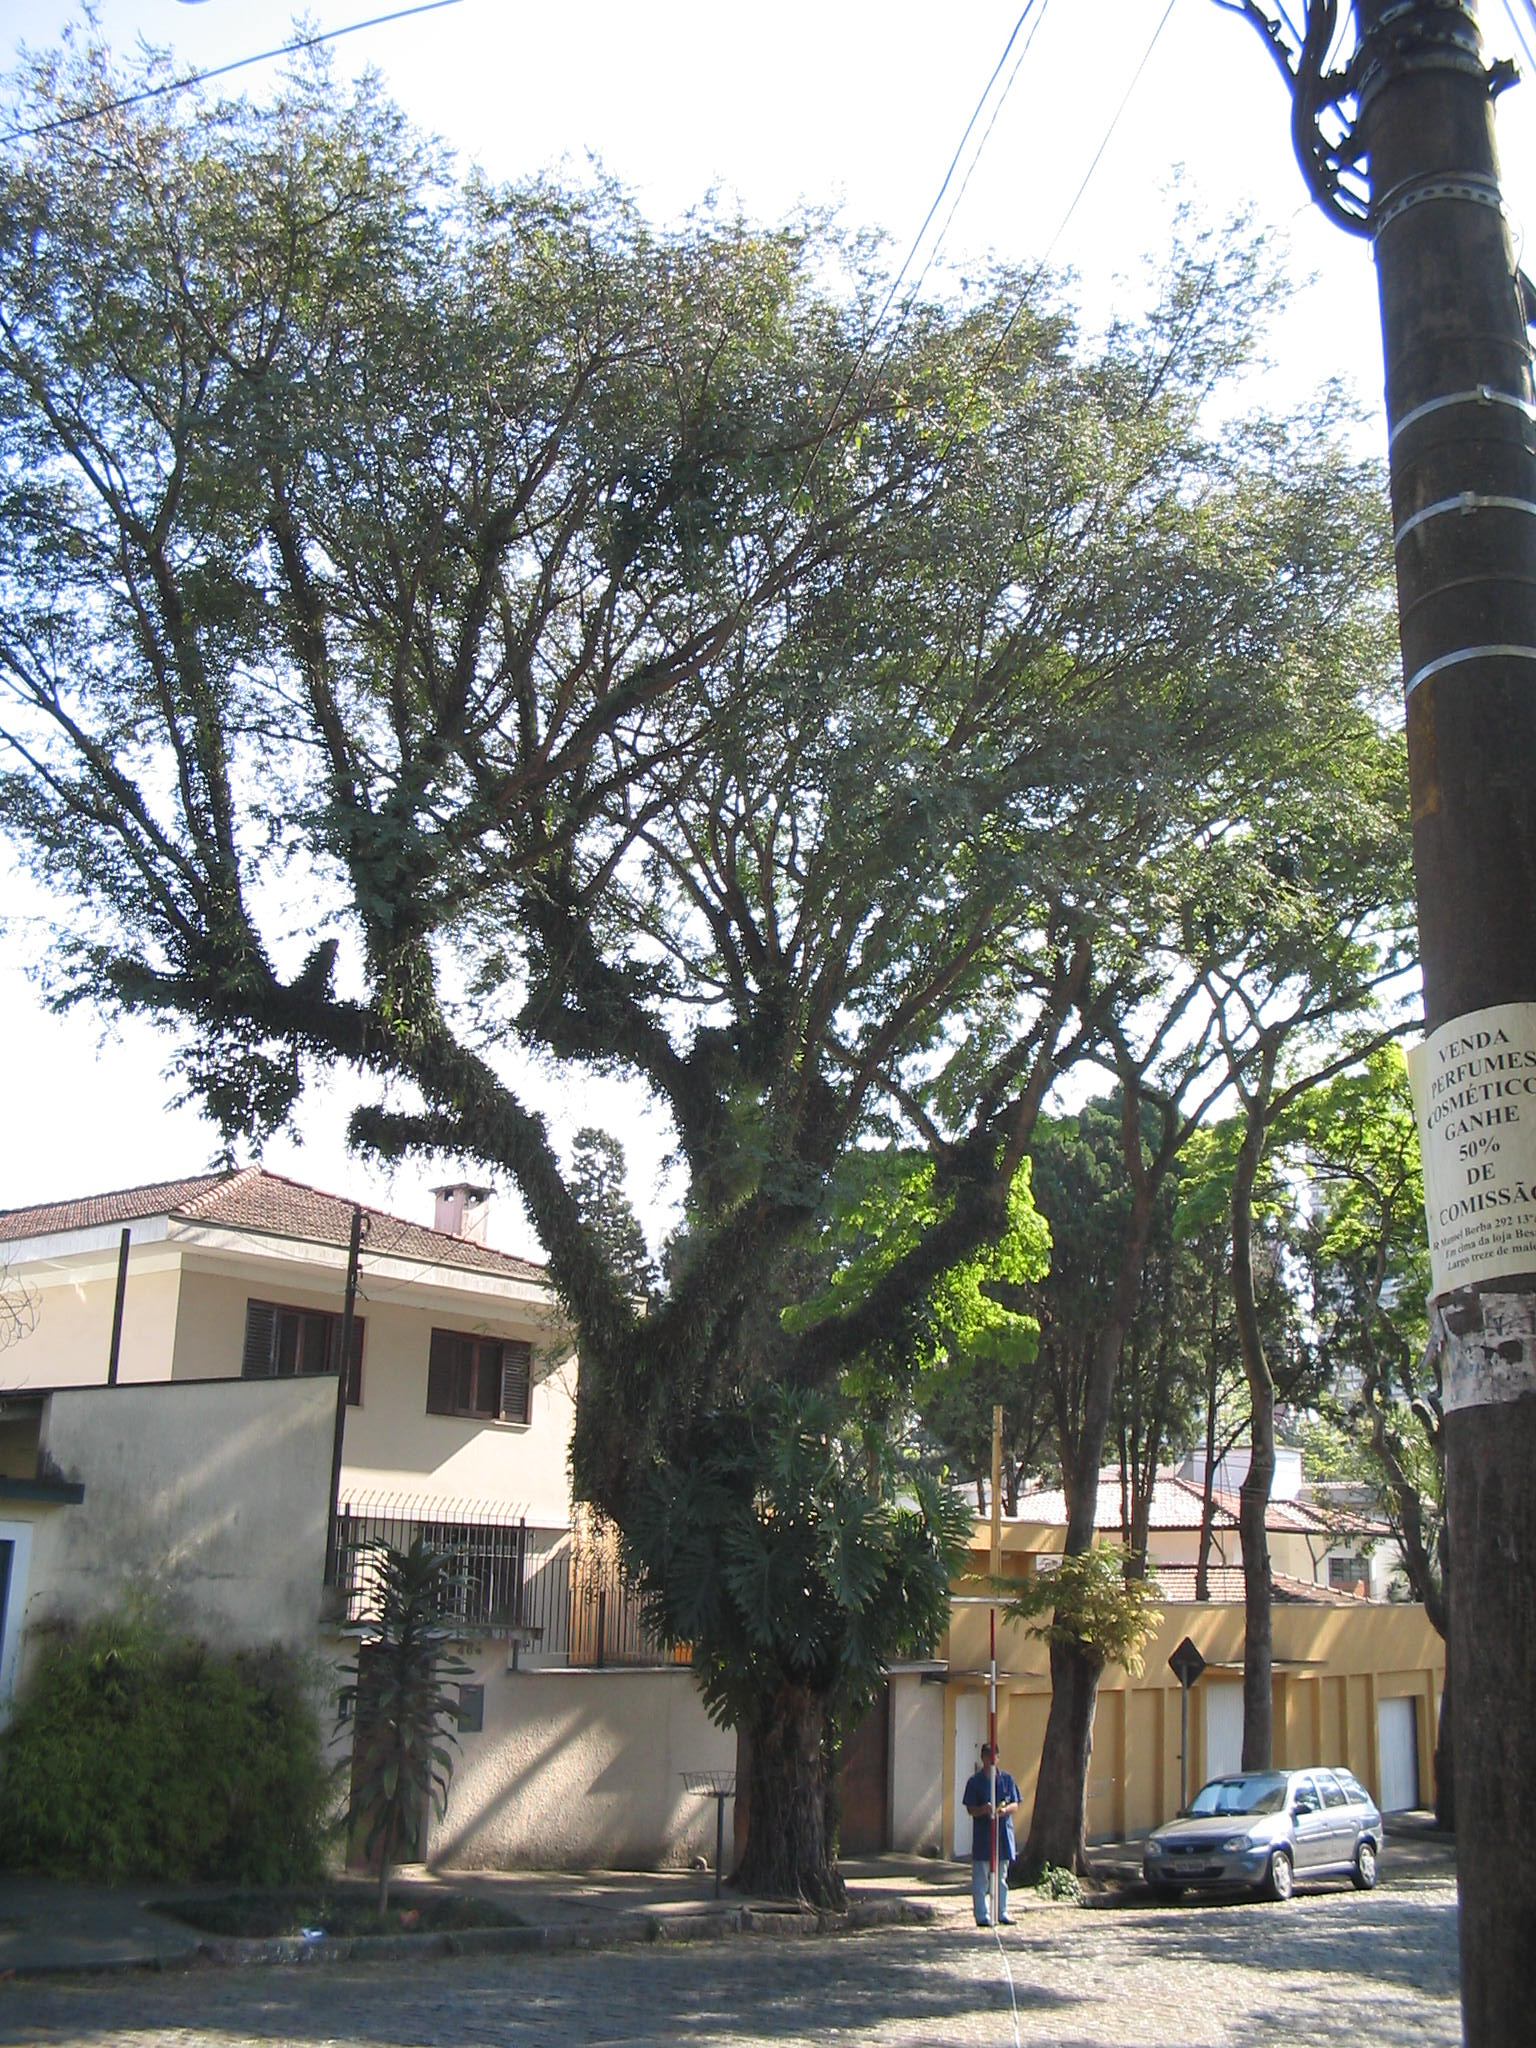crown: (10, 13, 1391, 1213)
stem: (687, 1595, 894, 1921)
stick: (975, 1603, 1012, 1921)
tree: (2, 3, 1394, 1921)
